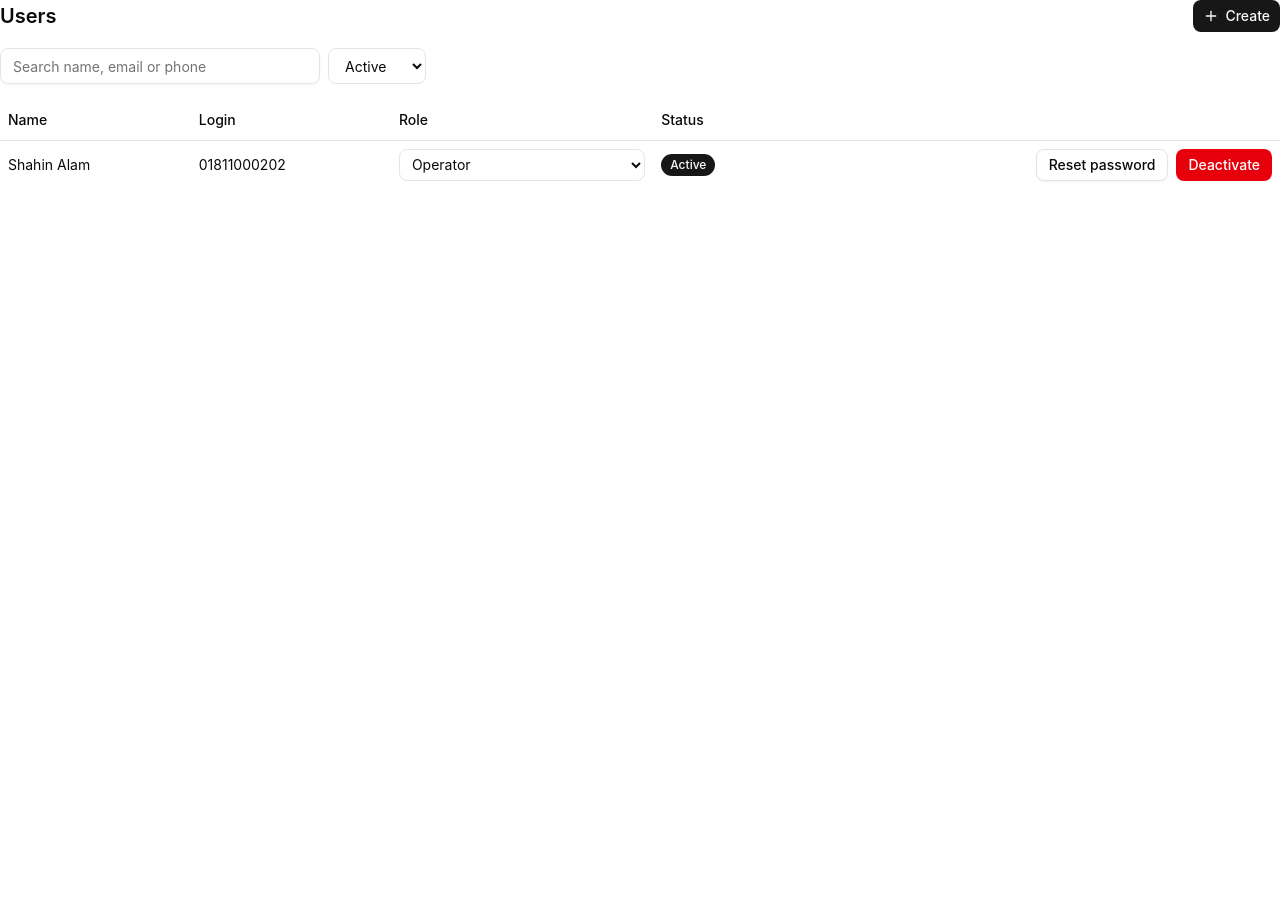
Test: users › resets a password after asking, and logs the user out everywhere
Click the button "Reset password" at (1102, 164), box [1036,148,1168,180]
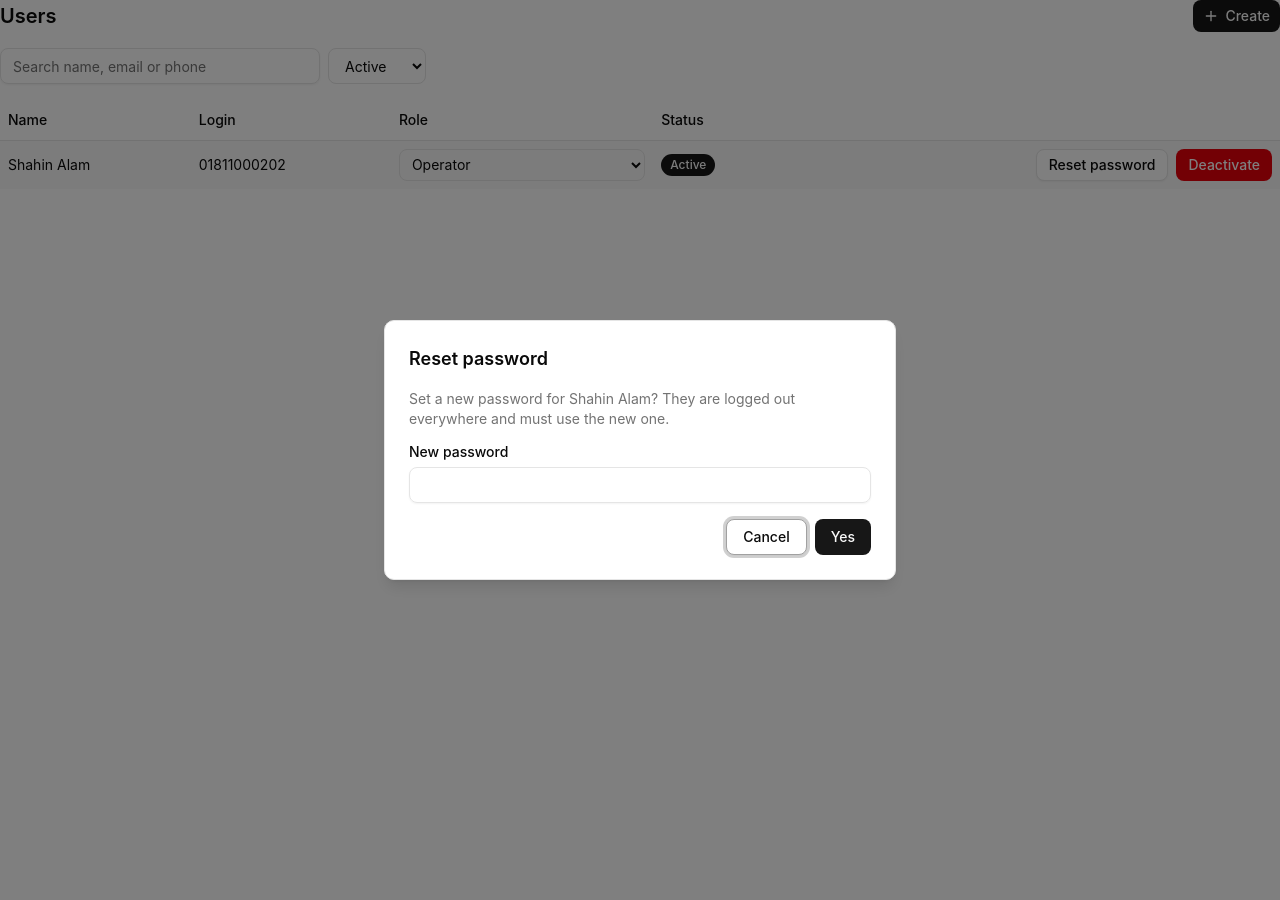
Type "short" into the password field labelled "New password" at (640, 485), box [409,467,871,503]
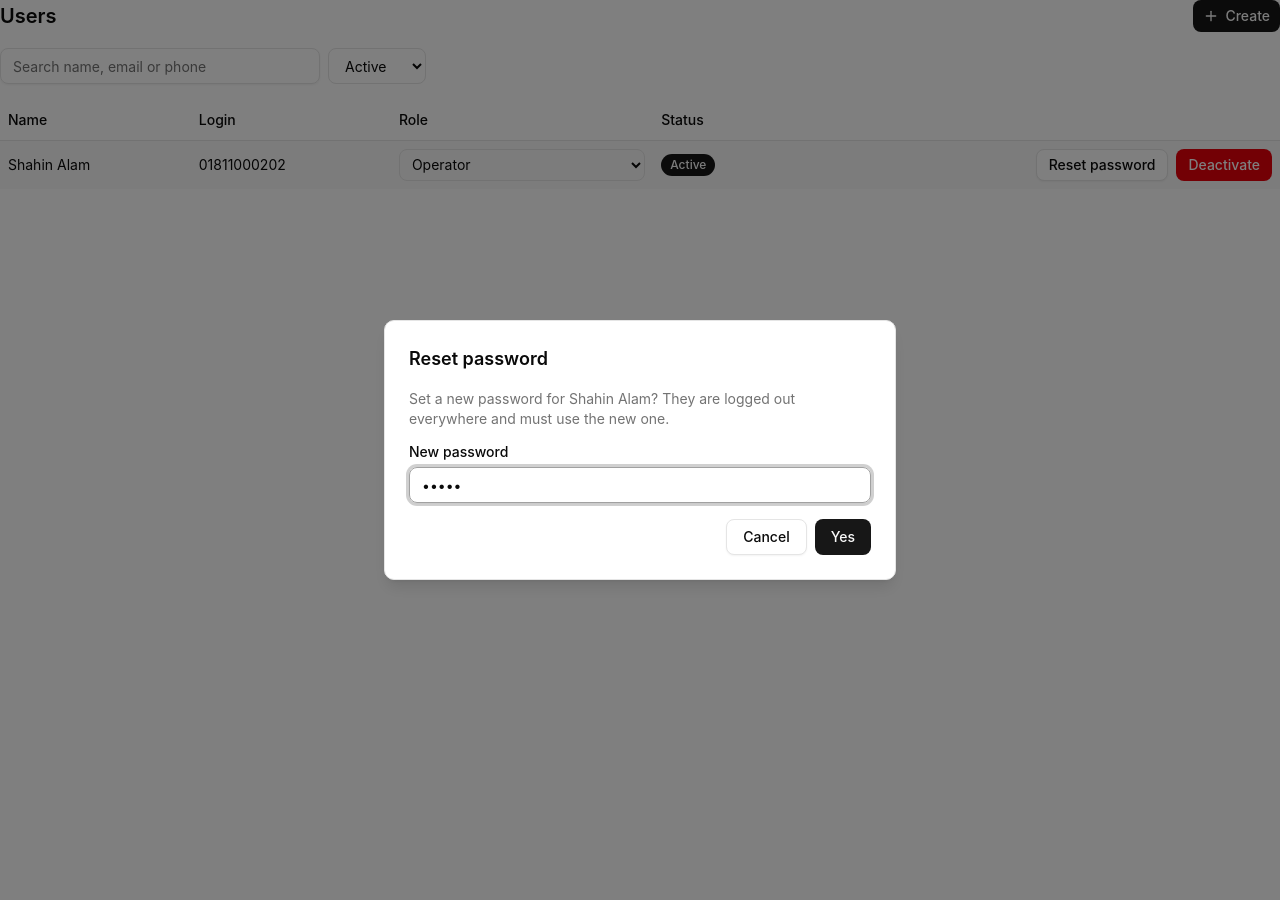
Click the button "Yes" at (843, 537), box [815,519,871,555]
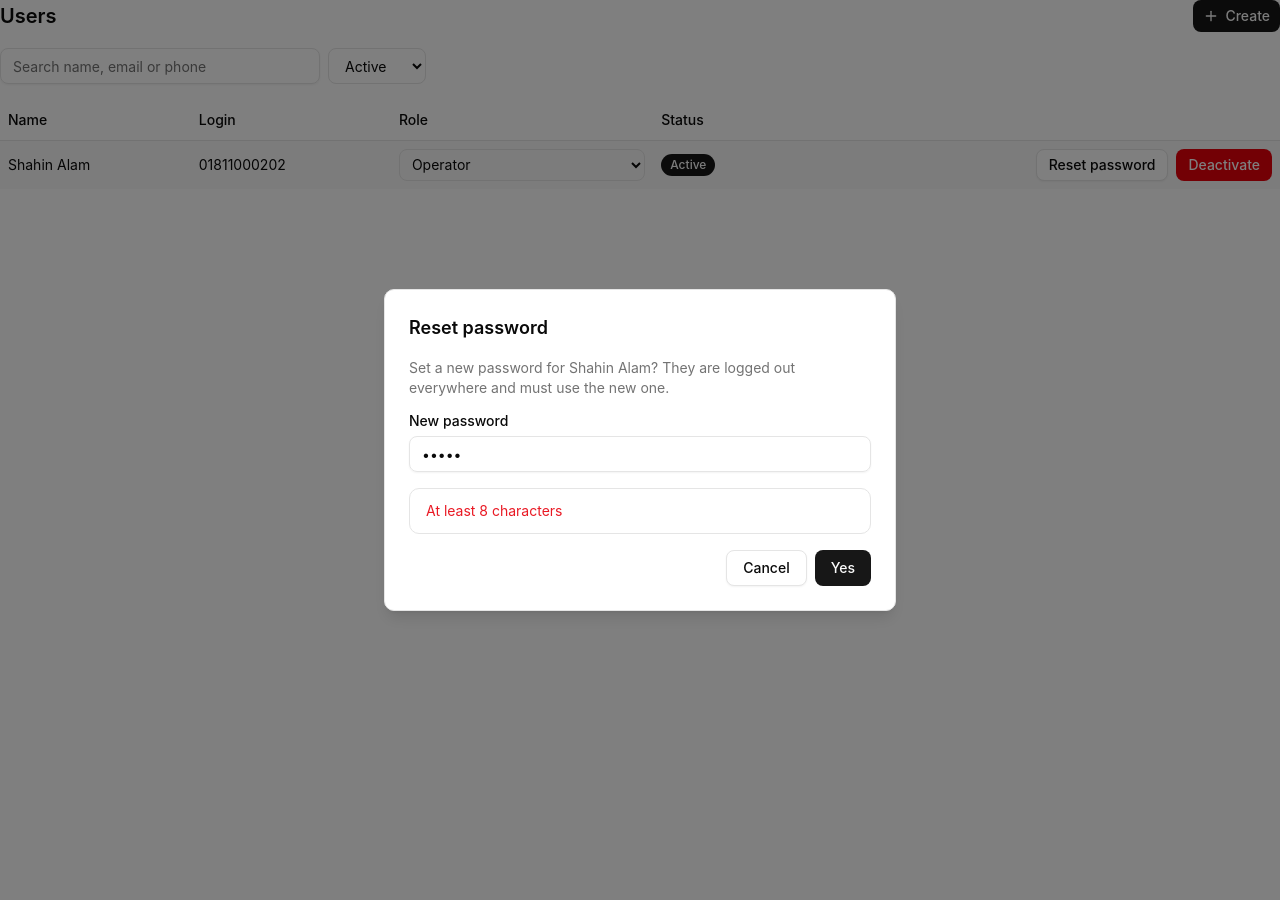
expect the text "At least 8 characters" is shown: met, box [426,502,562,519]
Type "a new password" into the password field labelled "New password" at (640, 454), box [409,436,871,472]
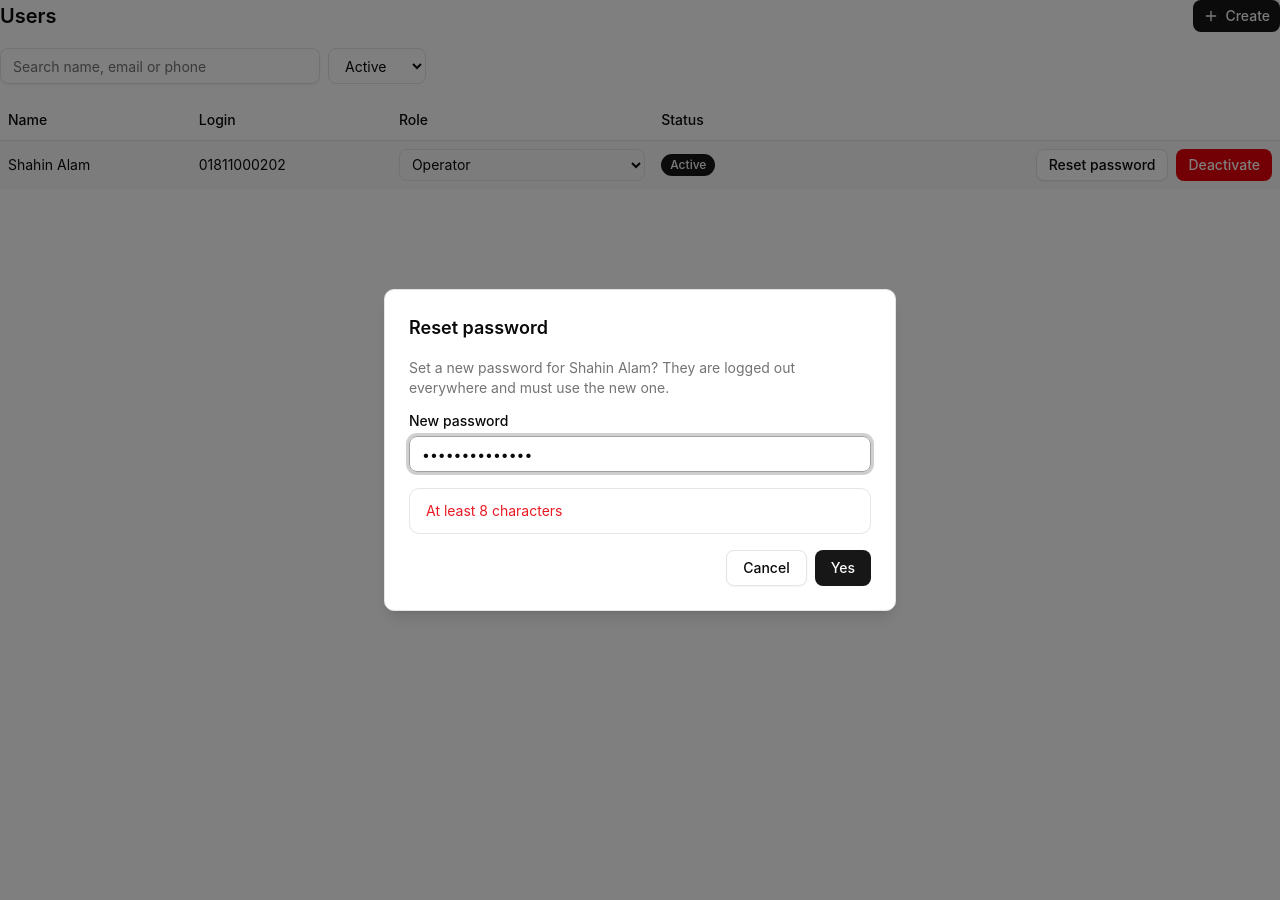
Click the button "Yes" at (843, 568), box [815,550,871,586]
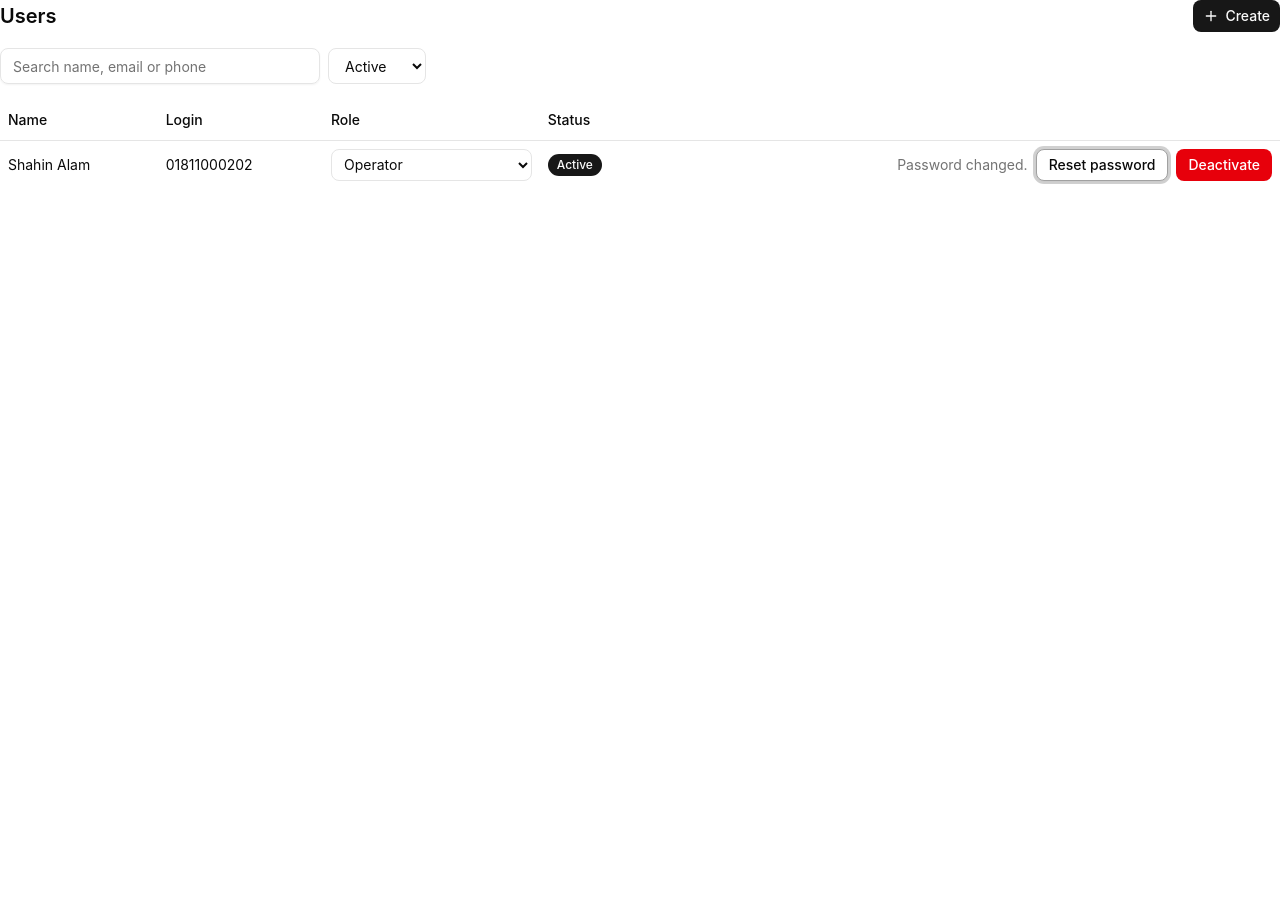
expect the text "Password changed." is shown: met, box [897,154,1028,174]
